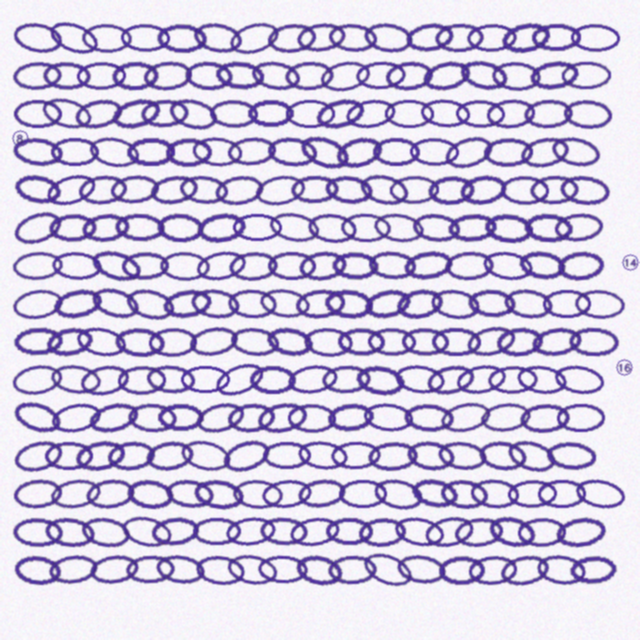chain: (211, 357, 269, 402), (359, 547, 417, 592), (45, 16, 102, 60), (296, 130, 353, 174), (10, 206, 66, 249), (43, 169, 100, 211), (10, 396, 65, 439), (219, 434, 274, 477), (226, 17, 282, 59), (441, 131, 497, 173), (88, 245, 144, 287), (504, 435, 560, 477), (39, 93, 94, 134), (88, 283, 143, 324), (166, 94, 221, 134), (86, 398, 141, 438), (178, 436, 234, 475), (119, 512, 175, 551), (109, 94, 163, 134), (313, 94, 367, 134), (123, 284, 177, 324), (193, 398, 247, 438), (11, 436, 65, 476), (357, 170, 412, 209), (438, 398, 493, 437), (422, 512, 477, 551), (333, 132, 386, 172), (457, 56, 511, 95), (464, 322, 518, 361), (87, 133, 142, 171), (253, 171, 308, 209), (49, 399, 104, 437), (392, 513, 447, 551), (486, 512, 539, 551), (318, 57, 372, 95), (420, 57, 474, 95), (72, 95, 126, 133), (518, 133, 572, 171), (549, 133, 603, 171), (194, 247, 248, 285), (74, 323, 128, 361), (78, 361, 132, 399), (424, 361, 478, 399), (371, 475, 425, 513), (573, 475, 627, 513), (498, 551, 552, 589), (10, 361, 65, 398), (454, 361, 509, 398), (225, 551, 280, 588), (51, 285, 104, 323), (293, 551, 346, 589), (267, 209, 321, 246), (187, 323, 241, 360), (255, 399, 309, 436), (73, 437, 127, 474), (552, 362, 607, 398), (362, 285, 414, 323), (11, 19, 64, 56), (191, 19, 244, 56), (499, 19, 552, 56), (249, 58, 303, 94), (515, 362, 569, 398), (12, 171, 64, 208), (394, 285, 446, 322), (409, 475, 461, 512), (344, 96, 397, 132), (148, 172, 201, 208), (213, 172, 266, 208), (372, 210, 425, 246), (481, 248, 534, 284), (11, 286, 64, 322), (530, 324, 583, 360), (49, 476, 102, 512), (192, 476, 245, 512), (79, 514, 132, 550), (288, 514, 341, 550), (554, 514, 607, 550), (393, 362, 447, 397), (224, 514, 278, 549), (161, 286, 213, 322), (429, 286, 481, 322), (44, 324, 96, 360), (264, 324, 316, 360), (354, 362, 406, 398), (295, 20, 348, 55), (362, 20, 415, 55), (189, 286, 242, 321), (258, 286, 311, 321), (502, 286, 555, 321), (49, 362, 102, 397), (286, 362, 339, 397), (479, 400, 532, 435), (296, 438, 349, 473), (84, 476, 137, 511), (47, 552, 100, 587), (88, 552, 141, 587), (395, 552, 448, 587), (260, 477, 314, 511), (404, 20, 456, 55), (528, 58, 580, 93), (195, 210, 247, 245), (297, 248, 349, 283), (402, 248, 454, 283), (144, 438, 196, 473), (405, 438, 457, 473), (477, 438, 529, 473), (296, 476, 348, 511), (154, 552, 206, 587), (535, 552, 587, 587), (11, 135, 64, 169), (558, 173, 611, 207), (306, 211, 359, 245), (436, 439, 489, 473), (43, 515, 96, 549), (458, 172, 509, 207), (517, 248, 568, 283), (178, 173, 230, 207), (323, 173, 375, 207), (80, 211, 132, 245), (164, 477, 216, 511), (194, 553, 246, 587), (419, 97, 472, 130), (191, 135, 244, 168), (266, 21, 317, 55), (411, 211, 462, 245), (483, 211, 534, 245), (229, 325, 280, 359), (125, 477, 176, 511), (439, 477, 490, 511), (453, 515, 504, 549), (266, 135, 318, 168), (77, 173, 129, 206), (553, 211, 605, 244), (294, 287, 346, 320), (145, 363, 197, 396), (362, 401, 414, 434), (469, 477, 521, 510), (13, 553, 63, 587), (142, 59, 193, 92), (214, 59, 265, 92), (384, 59, 435, 92), (485, 97, 536, 130), (226, 135, 277, 168), (109, 173, 160, 206), (367, 249, 418, 282), (323, 287, 374, 320), (226, 401, 277, 434), (106, 439, 157, 472), (12, 477, 63, 510), (150, 515, 201, 548), (327, 22, 379, 54), (545, 440, 597, 472), (467, 554, 519, 586), (556, 249, 606, 282), (495, 325, 545, 358), (326, 401, 376, 434), (12, 60, 63, 92), (491, 60, 542, 92), (562, 98, 613, 130), (12, 250, 63, 282), (51, 250, 102, 282), (574, 288, 625, 320), (114, 326, 165, 358), (303, 326, 354, 358), (403, 402, 454, 434), (519, 402, 570, 434), (367, 440, 418, 472), (232, 478, 283, 510), (357, 516, 408, 548), (340, 212, 392, 243), (257, 554, 309, 585), (447, 212, 497, 244), (228, 250, 278, 282), (284, 60, 335, 91), (355, 60, 406, 91), (529, 174, 580, 205), (114, 212, 165, 243), (227, 288, 278, 319), (568, 326, 619, 357), (321, 364, 372, 395), (330, 440, 381, 471), (427, 174, 476, 206), (569, 554, 618, 586), (159, 251, 211, 281), (434, 22, 484, 53), (184, 60, 234, 91), (140, 98, 190, 129), (523, 98, 573, 129), (290, 174, 340, 205), (523, 212, 573, 243), (444, 250, 494, 281), (467, 288, 517, 319), (13, 326, 63, 357), (127, 402, 177, 433), (259, 516, 309, 547), (125, 554, 175, 585), (327, 554, 377, 585), (81, 23, 132, 53), (120, 23, 171, 53), (156, 23, 207, 53), (466, 23, 517, 53), (570, 23, 621, 53), (76, 61, 127, 91), (409, 137, 460, 167), (487, 365, 538, 395), (507, 479, 558, 509), (12, 517, 63, 547), (111, 60, 160, 91), (156, 212, 205, 243), (42, 61, 92, 91), (209, 99, 259, 129), (455, 99, 505, 129), (483, 137, 533, 167), (389, 175, 439, 205), (500, 175, 550, 205), (48, 213, 98, 243), (148, 327, 198, 357), (367, 327, 417, 357), (117, 365, 167, 395), (232, 213, 283, 242), (180, 365, 231, 394), (121, 251, 170, 281), (331, 251, 380, 281), (337, 327, 386, 357), (401, 327, 450, 357), (287, 403, 336, 433), (517, 517, 566, 547), (531, 23, 581, 52), (561, 61, 611, 90), (285, 99, 335, 128), (384, 99, 434, 128), (50, 137, 100, 166), (431, 327, 481, 356), (556, 403, 606, 432), (338, 479, 388, 508), (192, 517, 242, 546), (165, 137, 213, 167), (438, 555, 486, 585), (13, 99, 62, 128), (126, 137, 175, 166), (372, 137, 421, 166), (267, 251, 316, 280), (542, 289, 591, 318), (44, 441, 93, 470), (262, 441, 311, 470), (537, 479, 586, 508), (325, 517, 374, 546), (247, 99, 295, 128), (249, 365, 297, 394), (157, 403, 205, 432)
noise: (614, 357, 634, 377), (620, 252, 640, 272), (10, 128, 30, 148)
